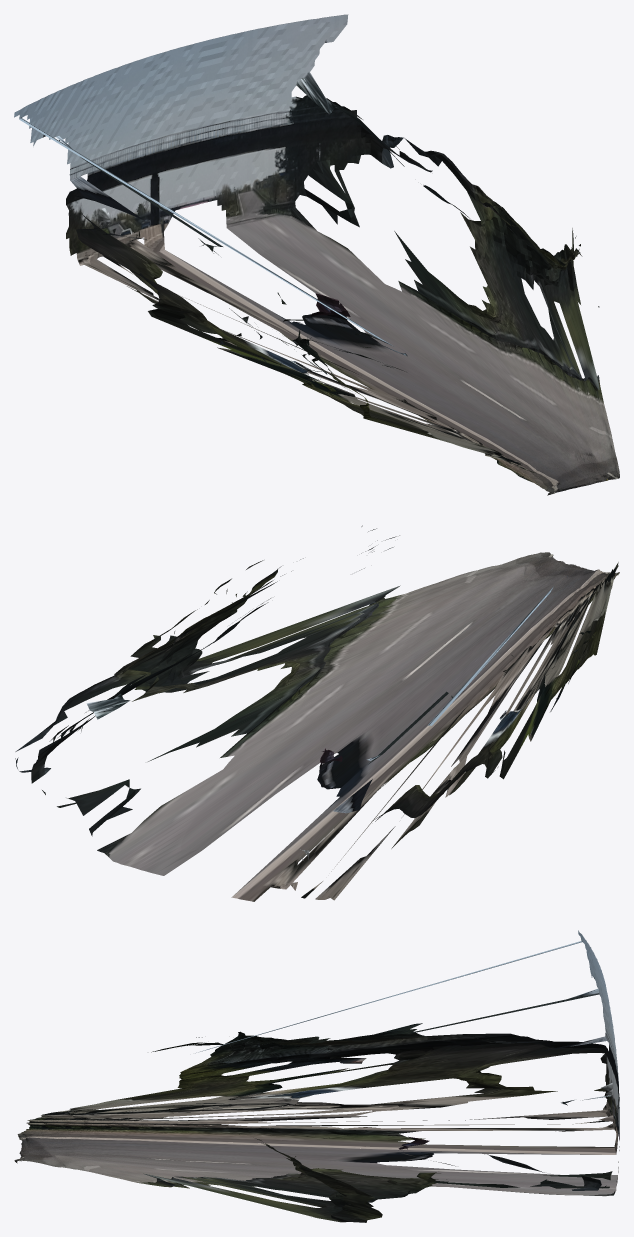
3 views of the same model, one above another, from view 1: azimuth 30°, elevation 25°; view 2: azimuth 150°, elevation 25°; view 3: azimuth 270°, elevation 25° (orthographic). The views are drawn at different scales.
Parts seen in each view (by area): view 1: defaultobject; view 2: defaultobject; view 3: defaultobject.
Part boxes in pixels (bbox=[...]): defaultobject: bbox=[14, 14, 619, 495]; defaultobject: bbox=[15, 525, 619, 901]; defaultobject: bbox=[14, 930, 619, 1222].
Bounding box in the file's own units: 29.46 × 13.23 × 44.69.
1 material, 1 textured.
